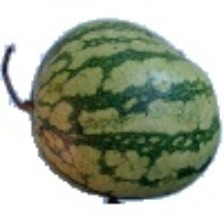watermelon: (6, 41, 181, 192)
